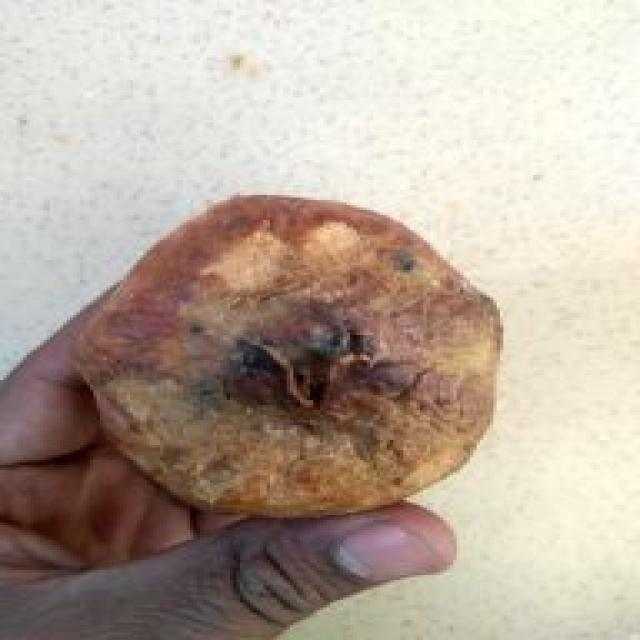Bad_Guava: (77, 196, 502, 517)
